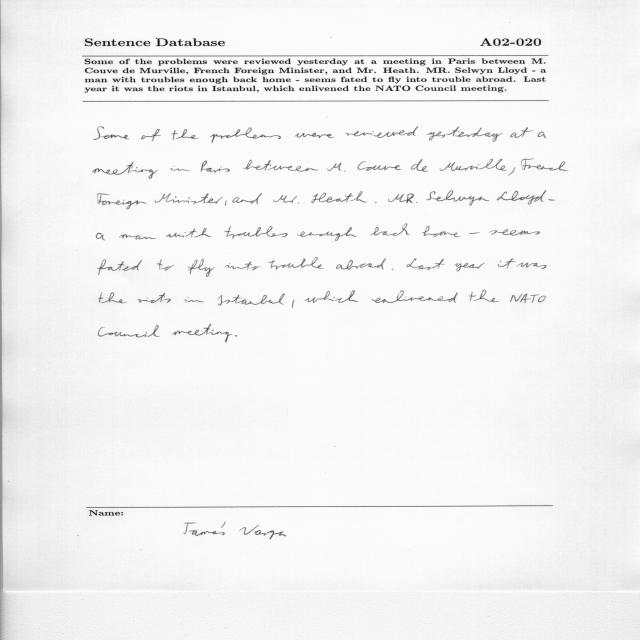word: (426, 127, 503, 142), (371, 290, 458, 303), (93, 162, 158, 179), (172, 325, 233, 343), (210, 128, 281, 143), (426, 191, 489, 206), (243, 160, 319, 172), (297, 227, 357, 241), (224, 226, 288, 239), (440, 159, 507, 171), (218, 294, 285, 306), (345, 127, 418, 138), (98, 194, 147, 210), (155, 193, 223, 204), (99, 325, 160, 337), (98, 259, 143, 275), (304, 290, 359, 303), (497, 191, 547, 205), (311, 191, 367, 203), (268, 258, 324, 270), (521, 159, 568, 171), (336, 259, 386, 270), (188, 259, 215, 277), (370, 224, 409, 236), (406, 258, 445, 270), (94, 127, 129, 140), (358, 161, 402, 171), (422, 226, 461, 237), (166, 228, 212, 237), (469, 290, 499, 302), (510, 293, 546, 303), (489, 229, 540, 236), (201, 161, 230, 173), (137, 293, 171, 303), (232, 194, 262, 205), (225, 262, 261, 271), (171, 129, 199, 140), (99, 293, 127, 304), (388, 194, 417, 204), (454, 263, 485, 272), (510, 127, 534, 138), (141, 129, 161, 141), (273, 195, 299, 204), (411, 159, 428, 172), (498, 258, 517, 269), (517, 262, 546, 269), (295, 133, 335, 138), (157, 260, 175, 271), (119, 234, 156, 239), (328, 163, 346, 172), (170, 166, 191, 171), (184, 297, 204, 302), (508, 167, 515, 176), (96, 233, 105, 240), (538, 132, 547, 138), (468, 232, 480, 234), (292, 300, 295, 308), (548, 199, 555, 201), (225, 200, 227, 206), (235, 335, 237, 337), (375, 202, 376, 203), (392, 269, 393, 270)
